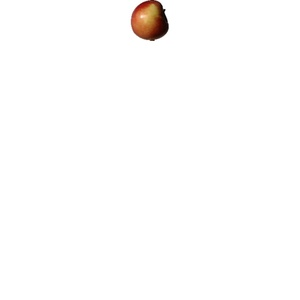maçã braeburn: (131, 1, 170, 45)
